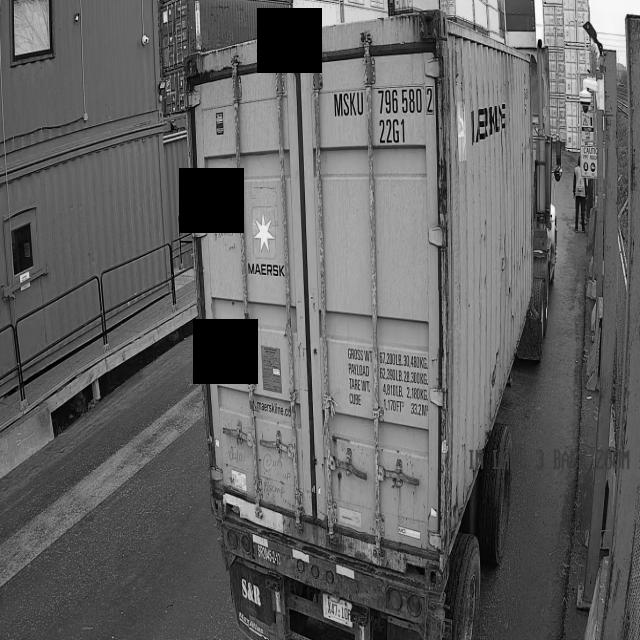container_company_logo: (230, 186, 295, 301)
container_number: (329, 77, 432, 464)
driver: (574, 158, 586, 231)
license_plate: (299, 591, 356, 640)
truck_without_container: (184, 11, 559, 640)
